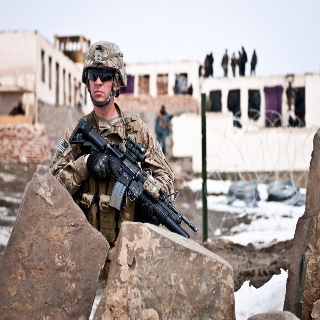rifle: (69, 118, 200, 238)
